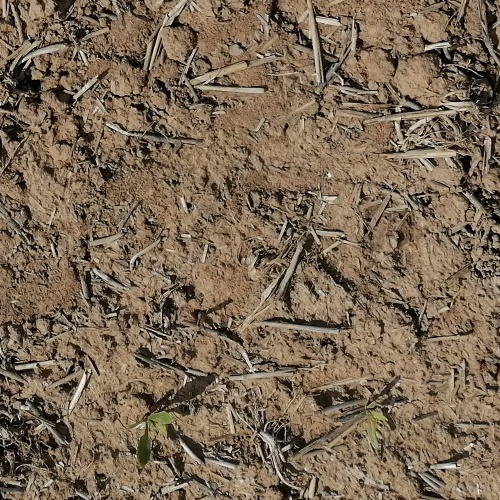beet: (136, 410, 176, 468), (367, 413, 386, 457)
